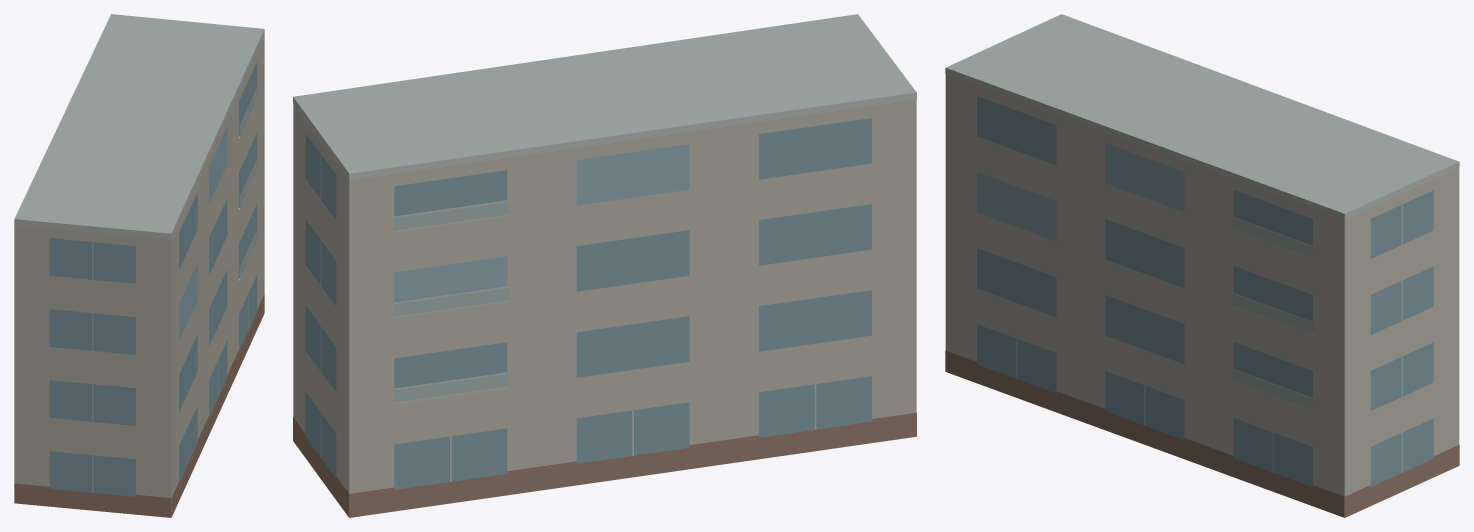
Rendered from survey-upis-32953289.glb.
3 renders of one model, left to right at view 1: azimuth 30°, elevation 25°; view 2: azimuth 150°, elevation 25°; view 3: azimuth 270°, elevation 25°, orthographic. The views are drawn at different scales.
Visible parts, largest first — view 1: survey-upis-32953289.tmp; view 2: survey-upis-32953289.tmp; view 3: survey-upis-32953289.tmp.
Part boxes in pixels (box(x1,y1,x2,y2)): survey-upis-32953289.tmp: box(14, 14, 264, 517); survey-upis-32953289.tmp: box(293, 14, 916, 517); survey-upis-32953289.tmp: box(945, 14, 1459, 517).
Bounding box in the file's own units: 17.2 × 12.2 × 18.69.
